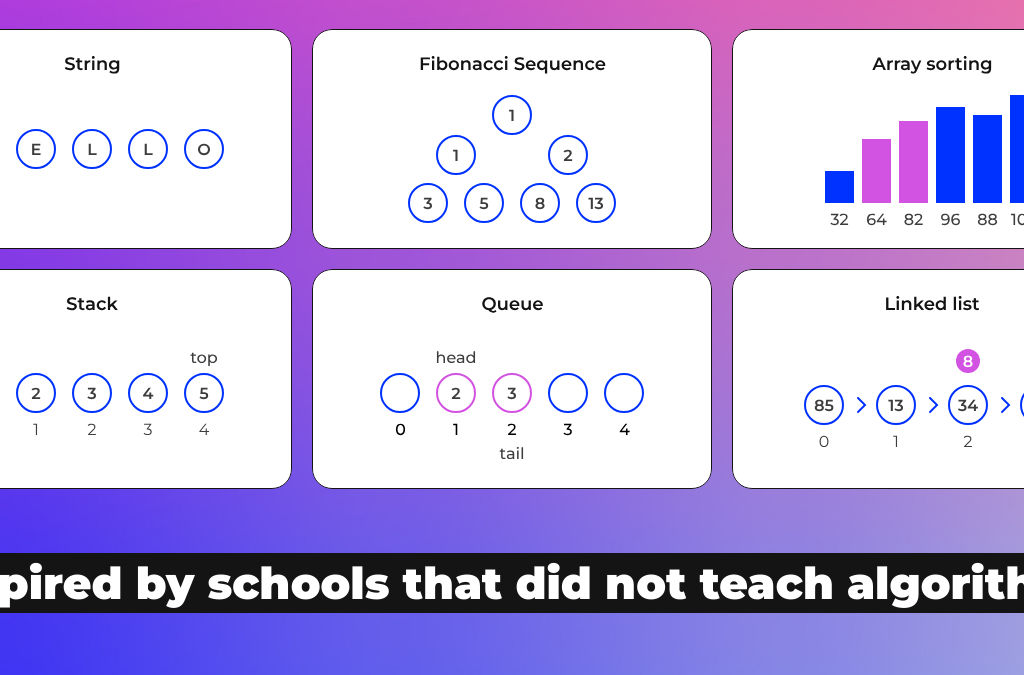
Test: Pages availability tests › open stack page
The image size is (1024, 675).
(page scrolled)
Click the 4th link.
click(146, 379)  # box [0,269,292,489]
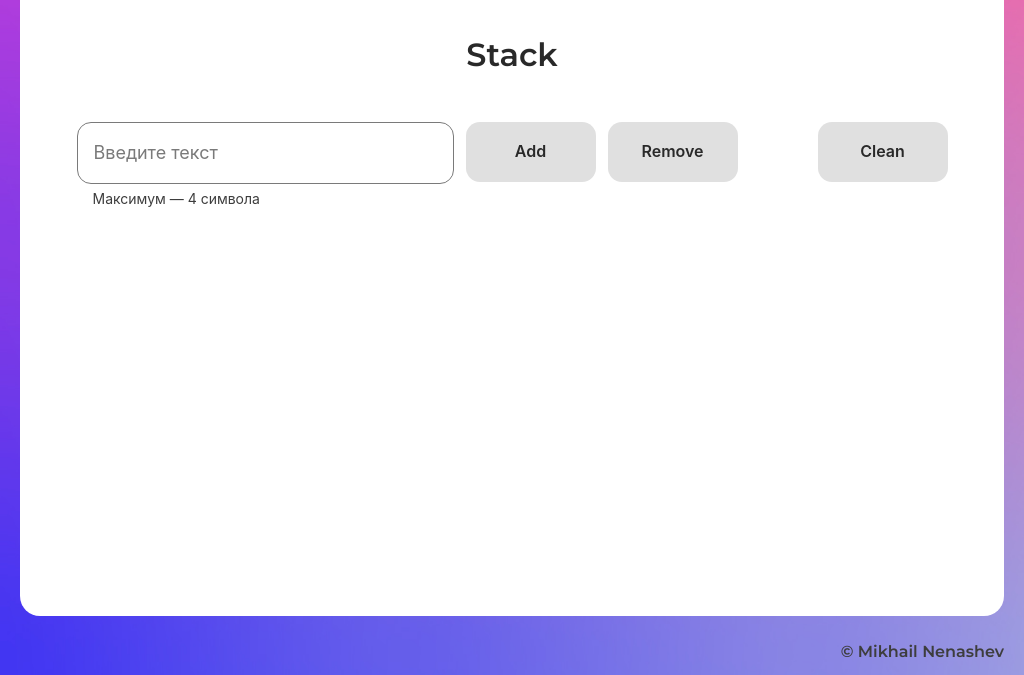
Result: the heading "Stack" is shown at [466,35,558,74]
